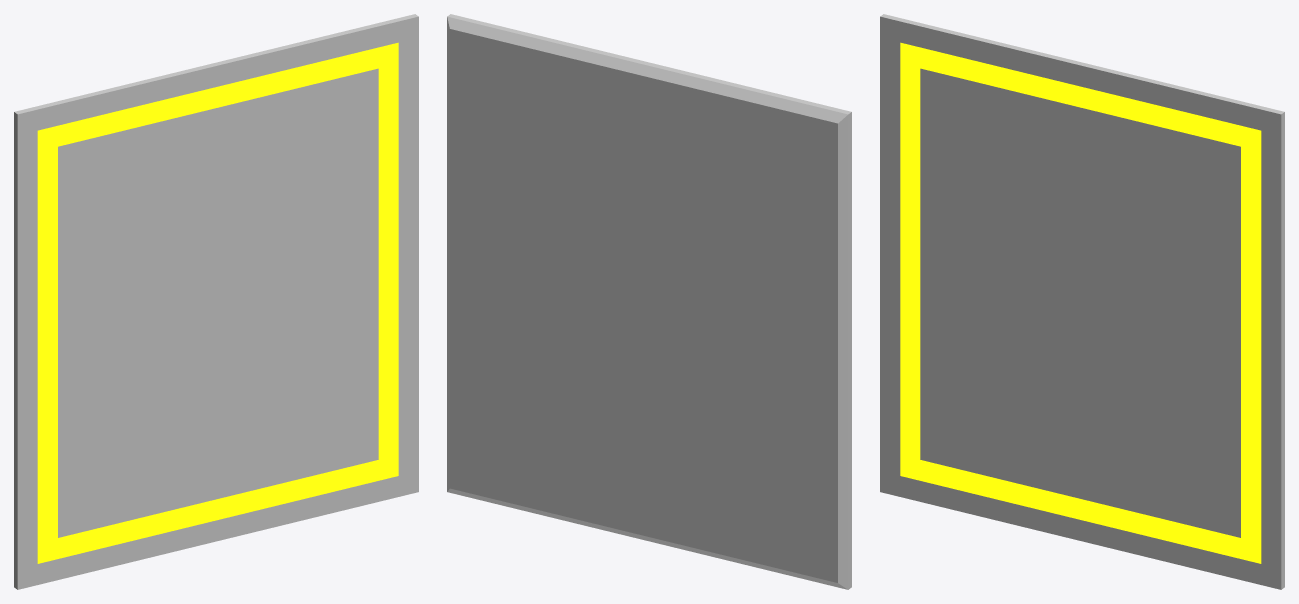
File: mdl_zesty_powerlid.gltf
3 renders of one model, left to right at view 1: azimuth 30°, elevation 25°; view 2: azimuth 150°, elevation 25°; view 3: azimuth 330°, elevation 25°, orthographic.
Parts seen in each view (by area): view 1: mdl_zesty_powerlid; view 2: mdl_zesty_powerlid; view 3: mdl_zesty_powerlid.
Boxes of the visible parts, <box> form: mdl_zesty_powerlid: <box>14,14,418,589</box>; mdl_zesty_powerlid: <box>447,14,851,589</box>; mdl_zesty_powerlid: <box>880,14,1284,589</box>.
Bounding box in the file's own units: 0.7992 × 0.9053 × 0.0251.
